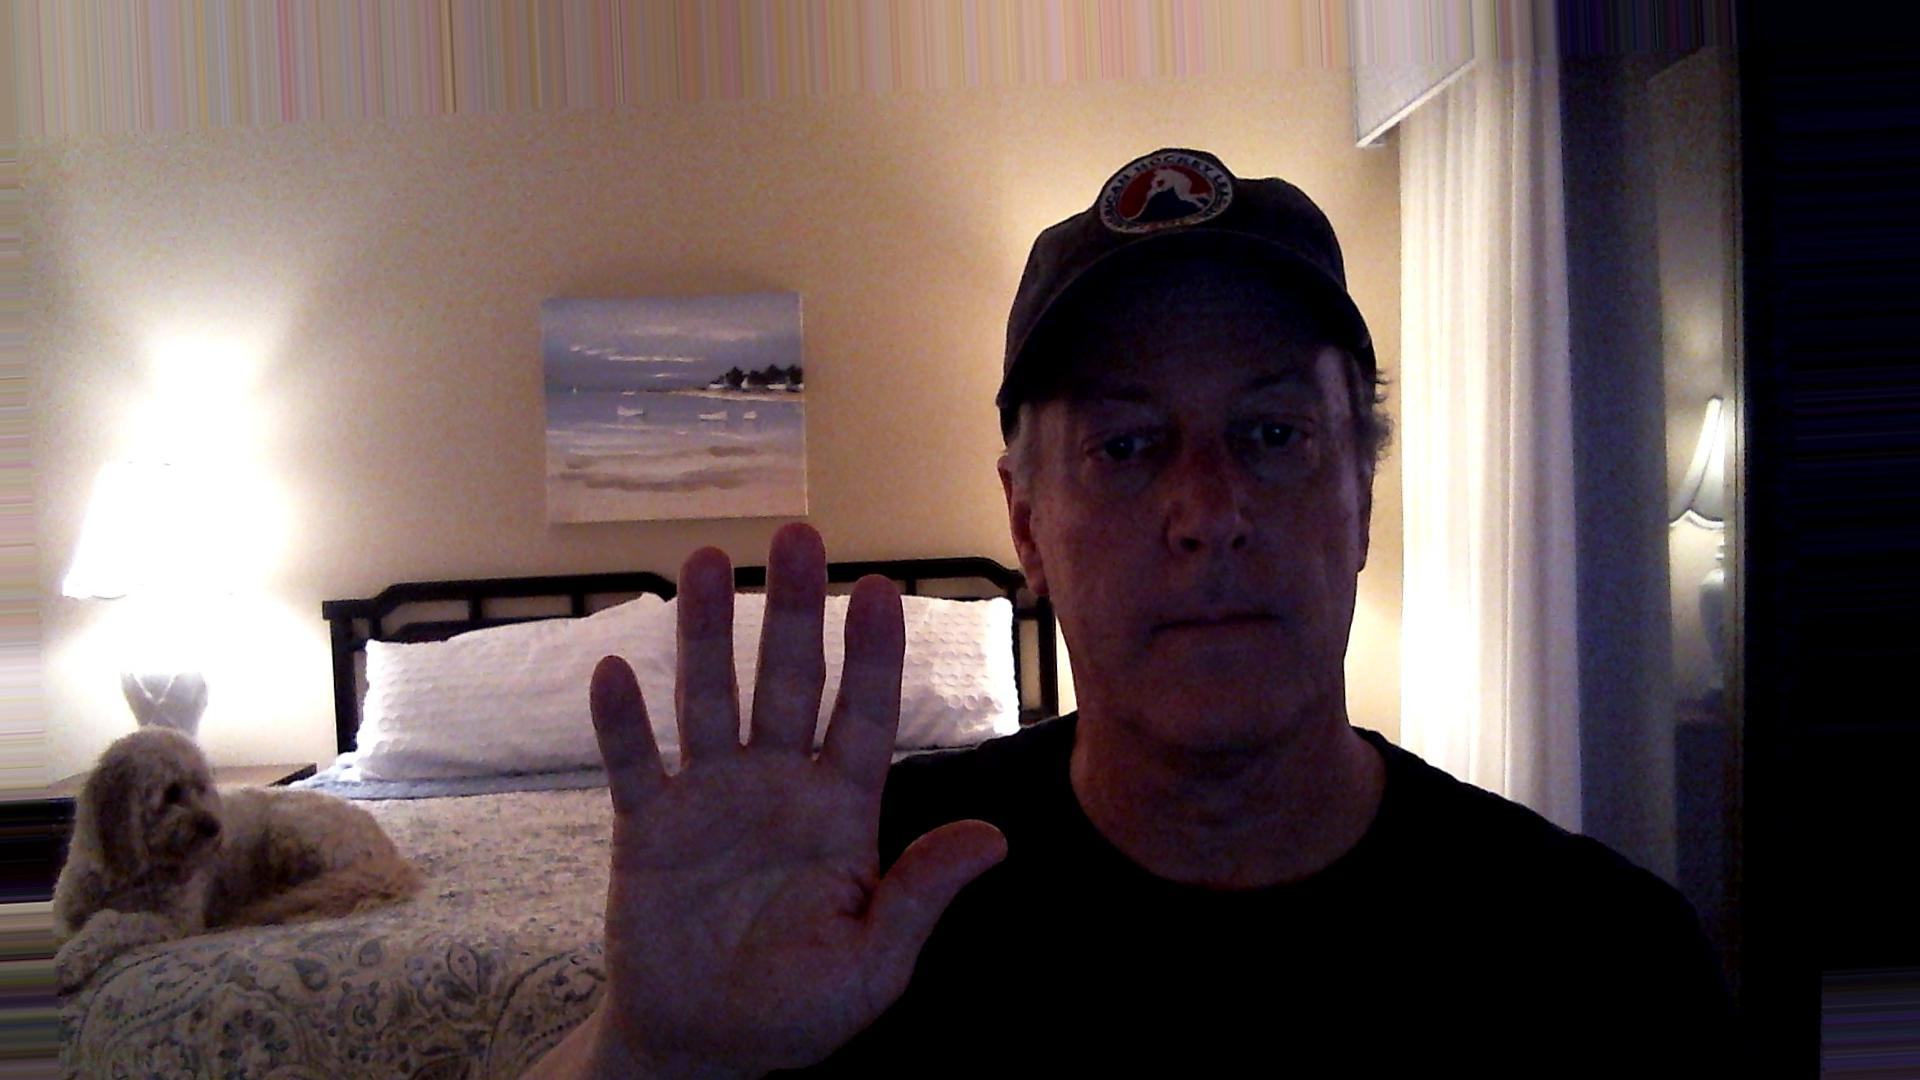Hello: (574, 508, 1015, 1080)
